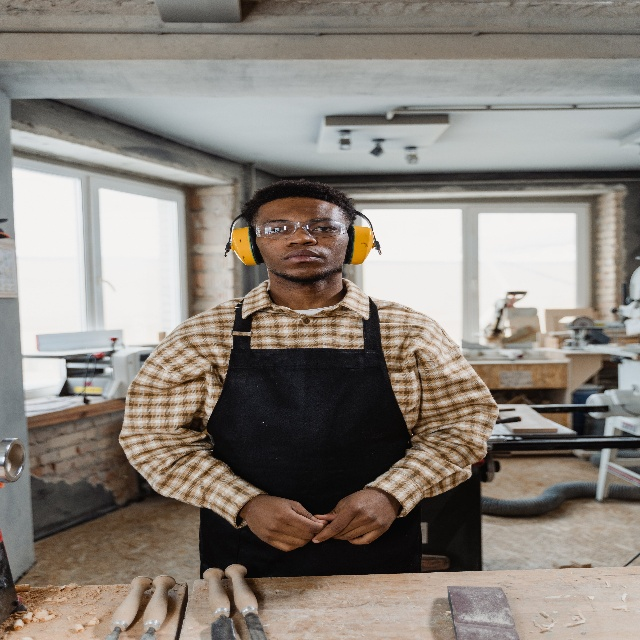Gafas: (255, 217, 343, 237)
Guantes: (225, 201, 379, 266)
Sin_guantes: (310, 485, 396, 549), (246, 494, 326, 553)
